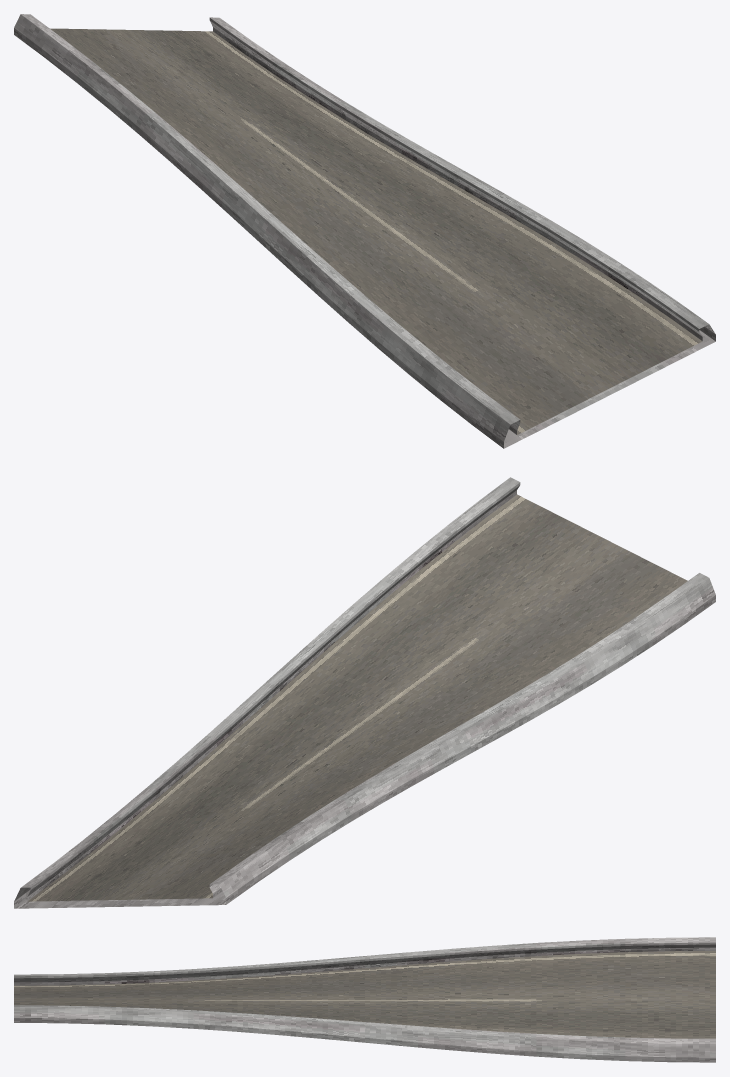
The model's file is road-Straight-HalfBankedLeft-HalfBankedRight-Even-Center-Size4.glb.
The picture shows the model from 3 angles, top to bottom: view 1: azimuth 30°, elevation 25°; view 2: azimuth 150°, elevation 25°; view 3: azimuth 270°, elevation 25°; orthographic projection. The views are drawn at different scales.
Parts seen in each view (by area): view 1: road-Straight-HalfBankedLeft-HalfBankedRight-Even-Center-Siz; view 2: road-Straight-HalfBankedLeft-HalfBankedRight-Even-Center-Siz; view 3: road-Straight-HalfBankedLeft-HalfBankedRight-Even-Center-Siz.
Boxes of the visible parts, left/top/right/bottom form: road-Straight-HalfBankedLeft-HalfBankedRight-Even-Center-Siz: left=14, top=14, right=715, bottom=448; road-Straight-HalfBankedLeft-HalfBankedRight-Even-Center-Siz: left=14, top=477, right=715, bottom=908; road-Straight-HalfBankedLeft-HalfBankedRight-Even-Center-Siz: left=14, top=937, right=715, bottom=1062.
Bounding box in the file's own units: 1 × 0.3359 × 4.
2 materials, 2 textured.
